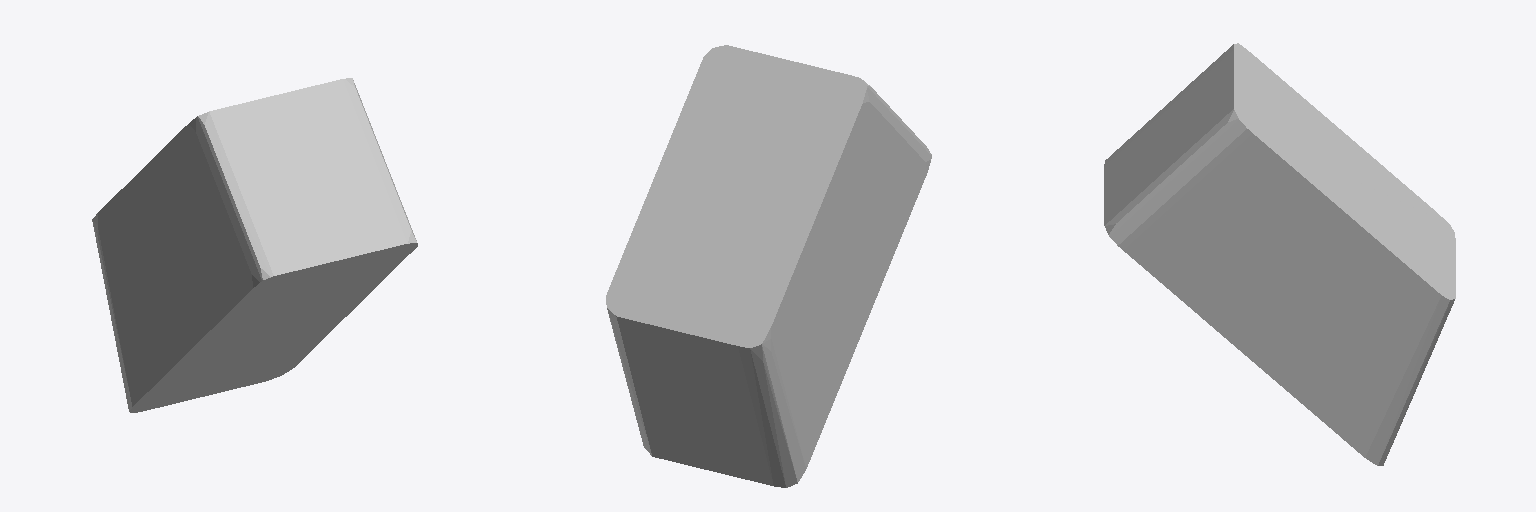
File: Carbon_Mov_Finger_021_v1_1_mesh_collision_9.obj
The picture shows the model from 3 angles: view 1: azimuth 30°, elevation 25°; view 2: azimuth 150°, elevation 25°; view 3: azimuth 270°, elevation 25°; orthographic projection.
Size of the model in its own units: 0.0033 by 0.0069 by 0.0061.